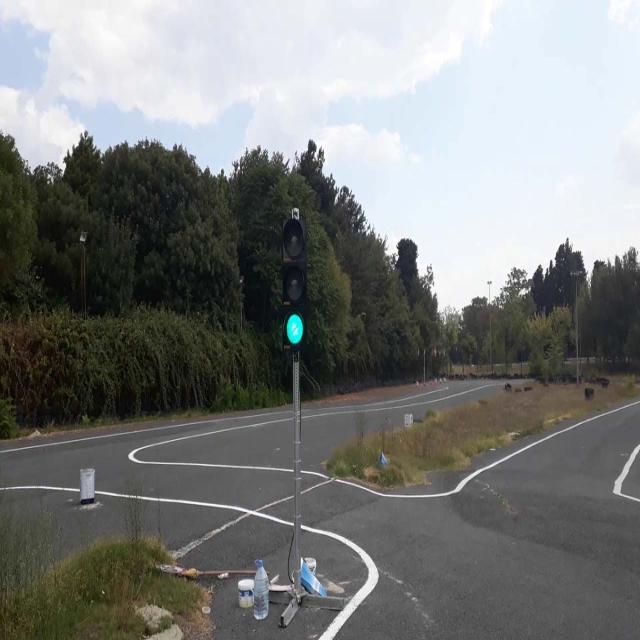yesil: (282, 214, 306, 347)
